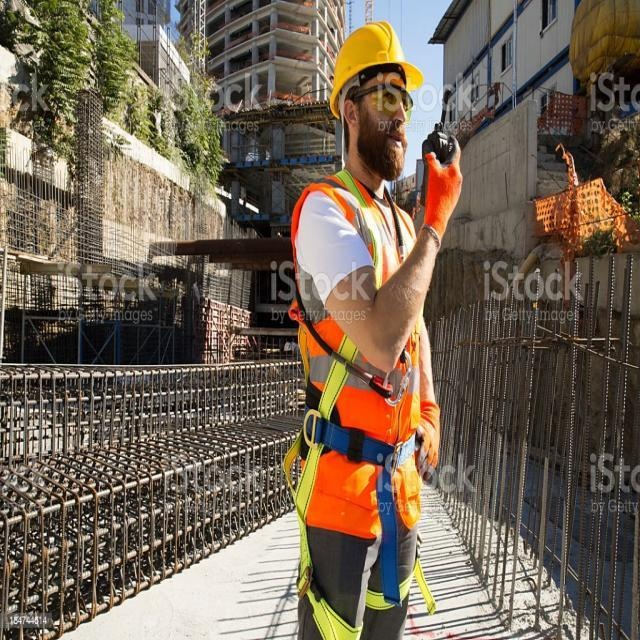Arnes_seguridad: (284, 166, 435, 636)
